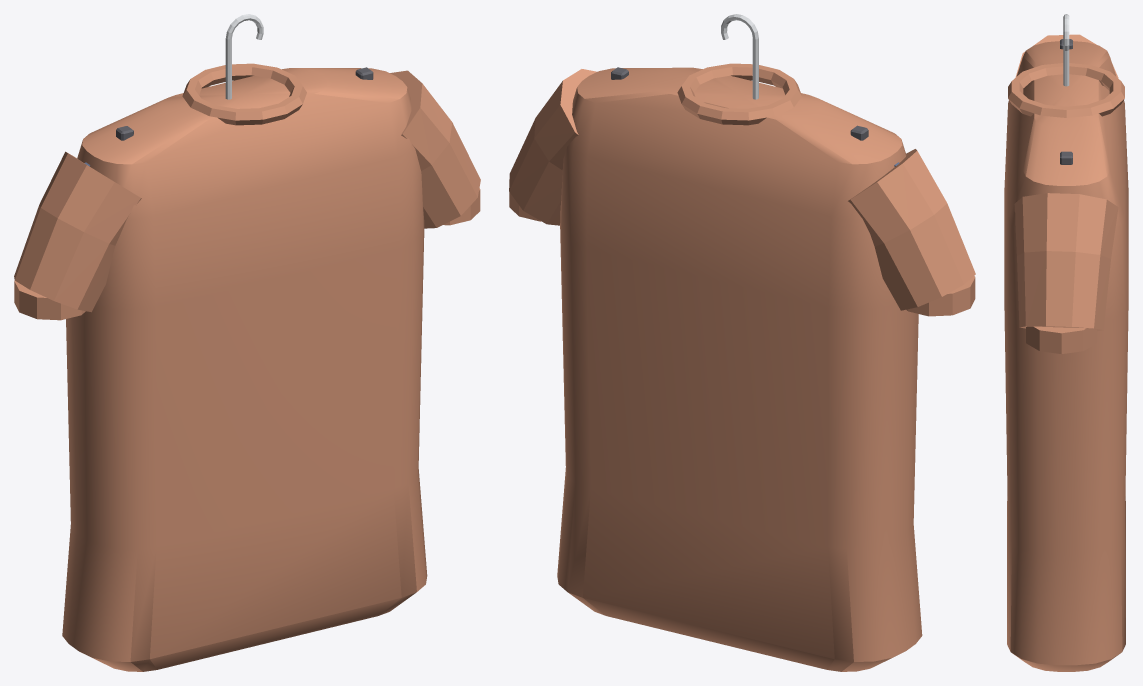
Rendered from studio-shirt.glb.
The picture shows the model from 3 angles, left to right: view 1: azimuth 30°, elevation 25°; view 2: azimuth 150°, elevation 25°; view 3: azimuth 270°, elevation 25°; orthographic projection. The views are drawn at different scales.
Parts seen in each view (by area): view 1: tshirt-on-hanger; view 2: tshirt-on-hanger; view 3: tshirt-on-hanger.
Boxes of the visible parts, bbox=[...] form: tshirt-on-hanger: bbox=[14, 14, 480, 671]; tshirt-on-hanger: bbox=[509, 14, 975, 671]; tshirt-on-hanger: bbox=[1004, 14, 1128, 671].
Size of the model in its own units: 0.5712 by 0.7313 by 0.14.
